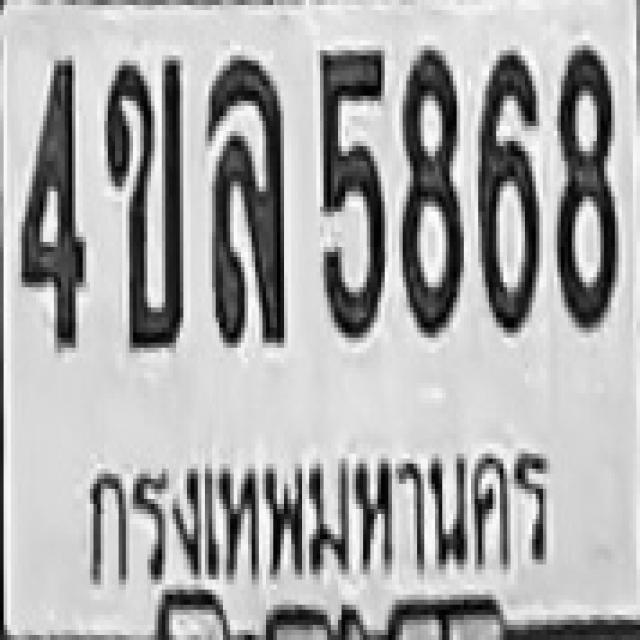11KhorKhai: (104, 55, 184, 348)
4: (18, 53, 86, 350)
5: (316, 45, 385, 338)
6: (477, 45, 538, 332)
8: (399, 43, 460, 335), (554, 40, 615, 328)
Bangkok: (67, 422, 561, 595)
